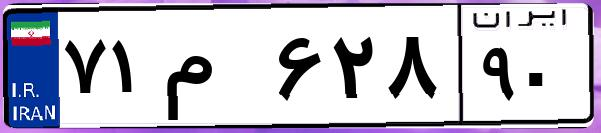0: (525, 38, 570, 115)
1: (110, 28, 158, 98)
2: (330, 28, 385, 110)
6: (270, 28, 330, 110)
7: (57, 26, 110, 100)
8: (385, 28, 445, 110)
9: (475, 38, 525, 113)
م: (158, 20, 270, 120)
